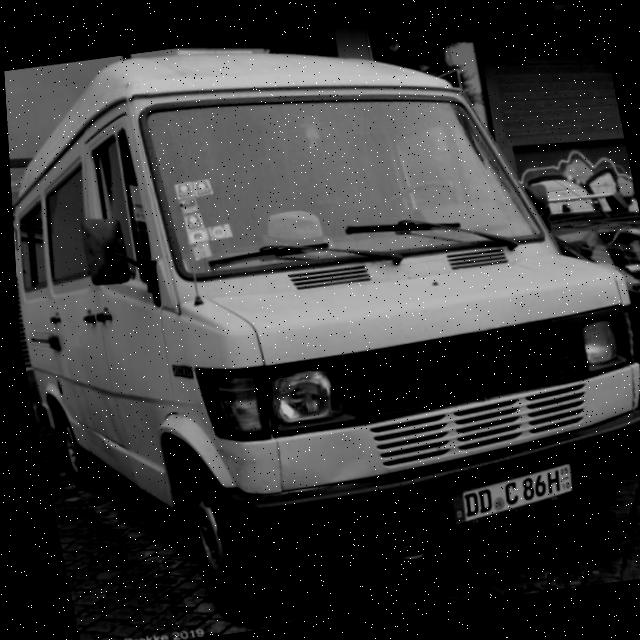license-plates: (451, 464, 573, 525)
